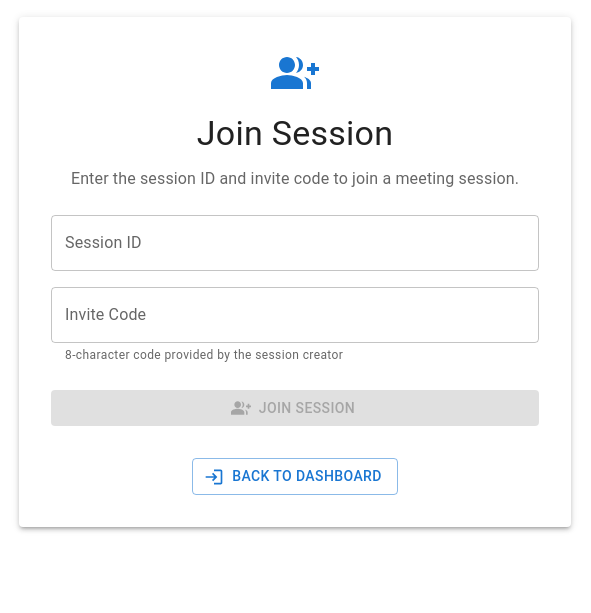
Scenario: JoinSessionPage › should display error message when join fails
Step 1. Type "invalid-session" into the field labelled "Session ID" → (295, 243), box 51,215 -> 539,271
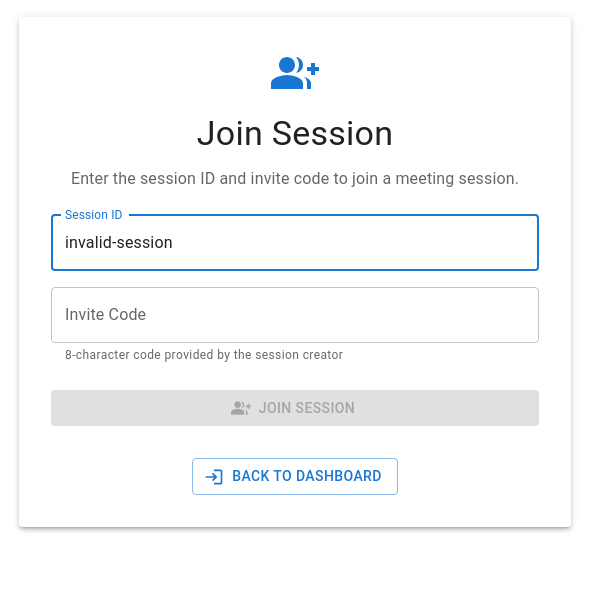
Step 2. Type "TESTCODE" into the field labelled "Invite Code" → (295, 315), box 51,287 -> 539,343
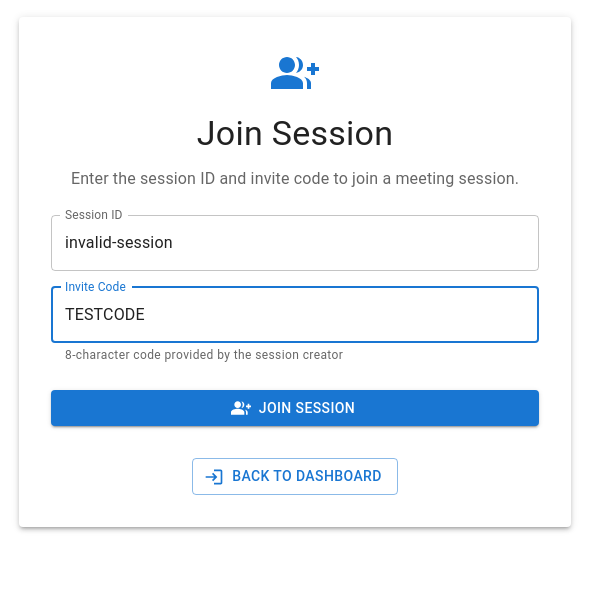
Step 3. Click the button "Join Session" → (295, 408), box 51,390 -> 539,426
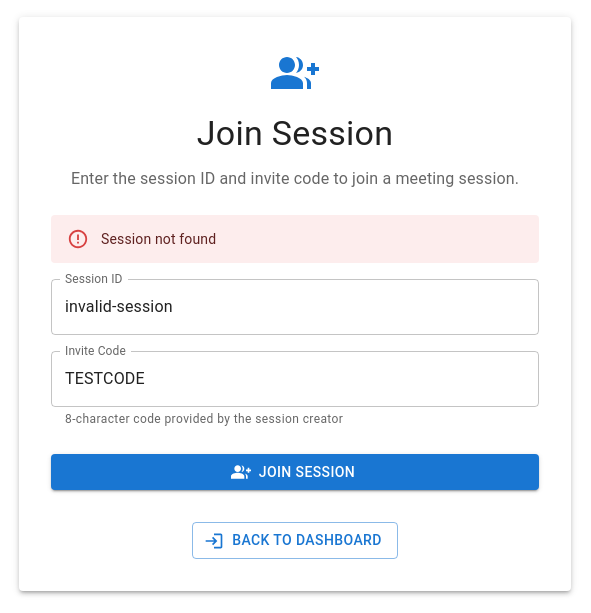
Result: the text "Session not found" is shown at 101,231 -> 216,247
